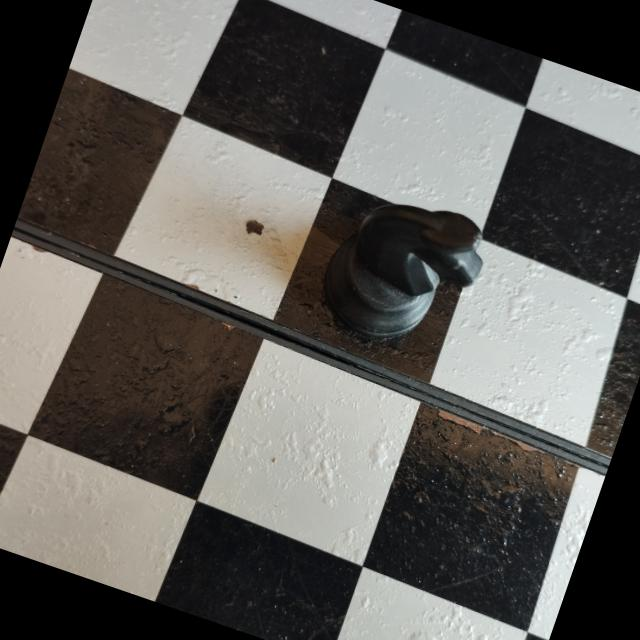Black Knight: (296, 168, 503, 376)
